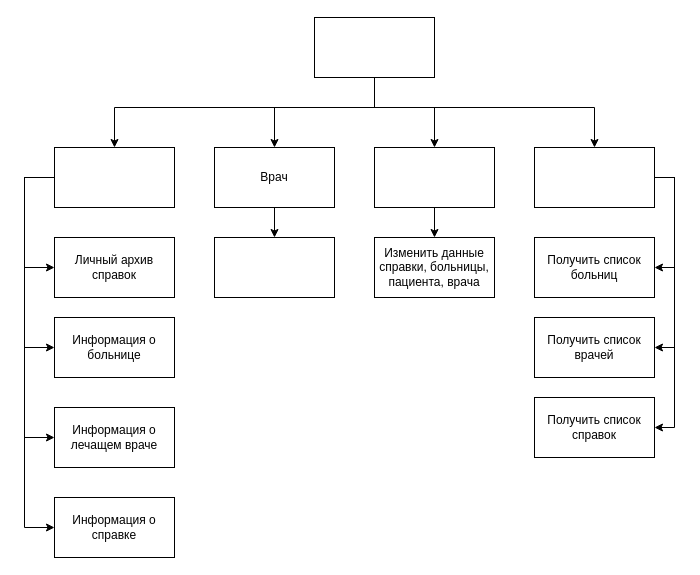
Image size: 700x575. Some labels were removed from this diagram. The shapes that lost their labels are listed below. From the top down, each one's box as (x1, y1, x2, y2) in pixels, then its label:
(314, 16, 434, 78): Главная программа
(54, 146, 174, 208): Пациент
(374, 146, 494, 208): Администратор
(534, 146, 654, 208): Рукводоство
(214, 236, 334, 298): Создать и подписать справку
